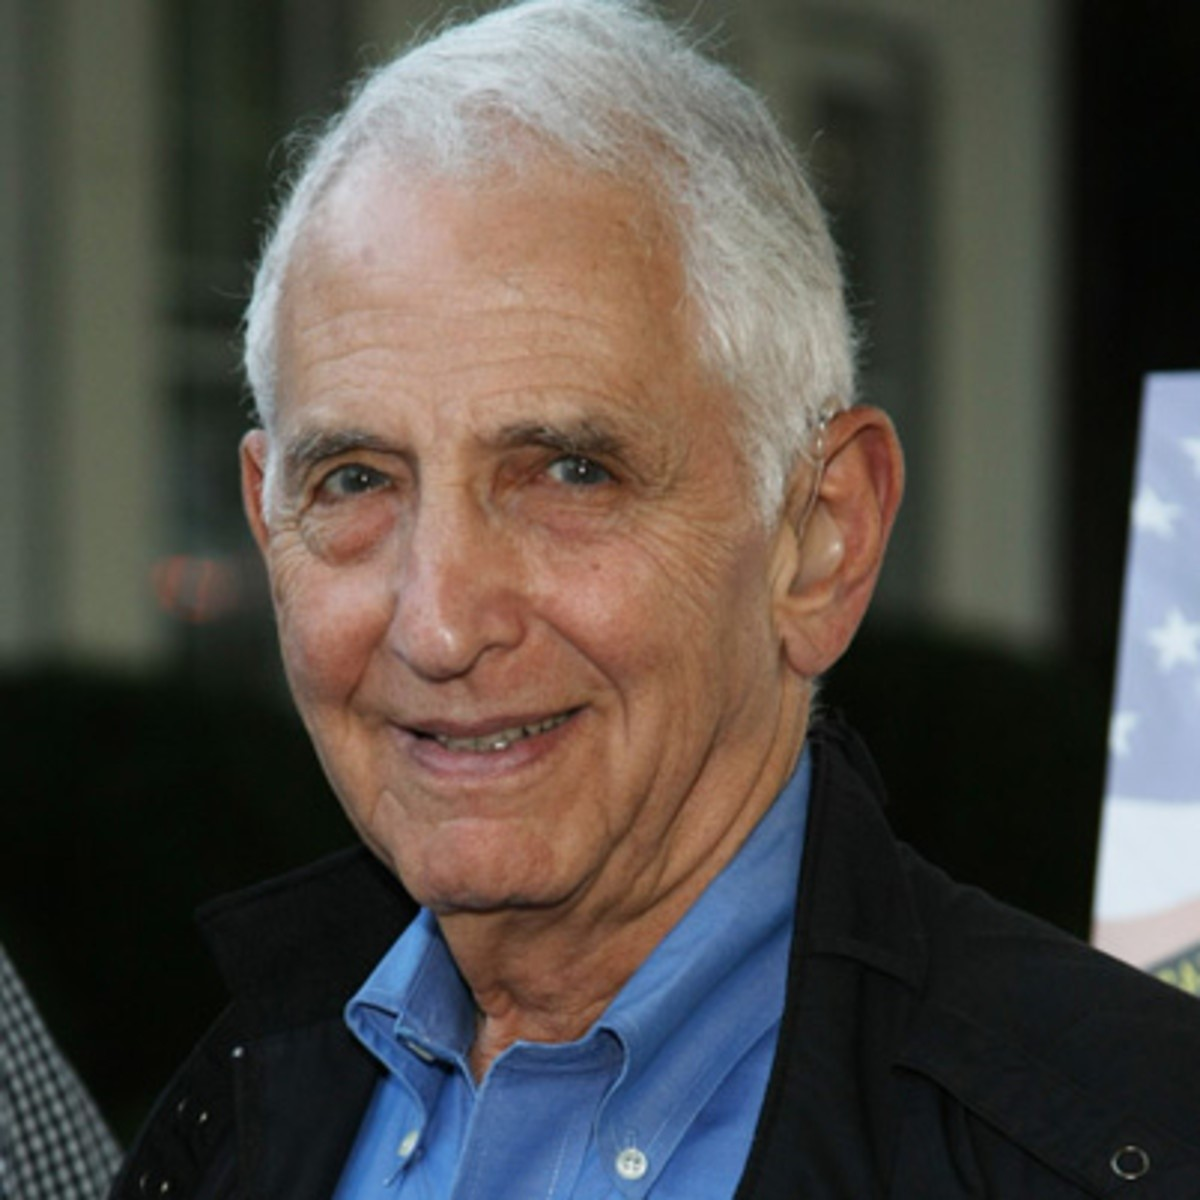face_no_mask: (232, 5, 901, 904)
